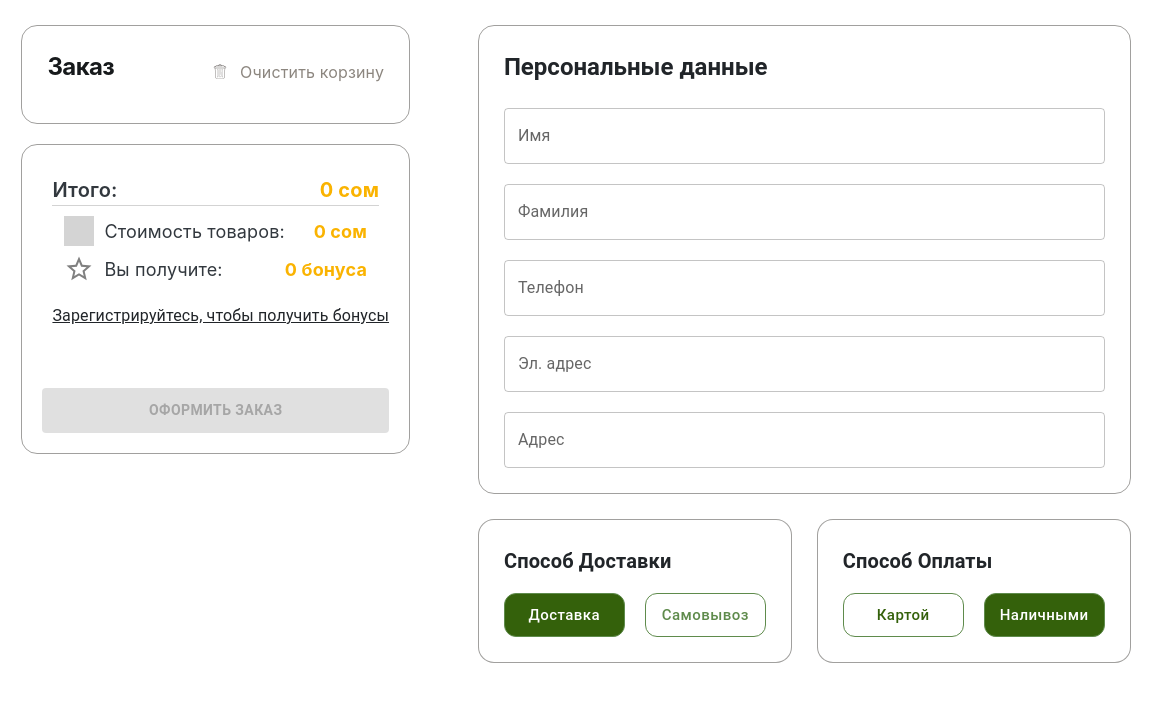
Test case: OrderForm component › validates phone number format
This screenshot has width=1152, height=720.
Type "123" into the field labelled "Телефон".
click(804, 288); type("123")  # box [504, 260, 1105, 316]
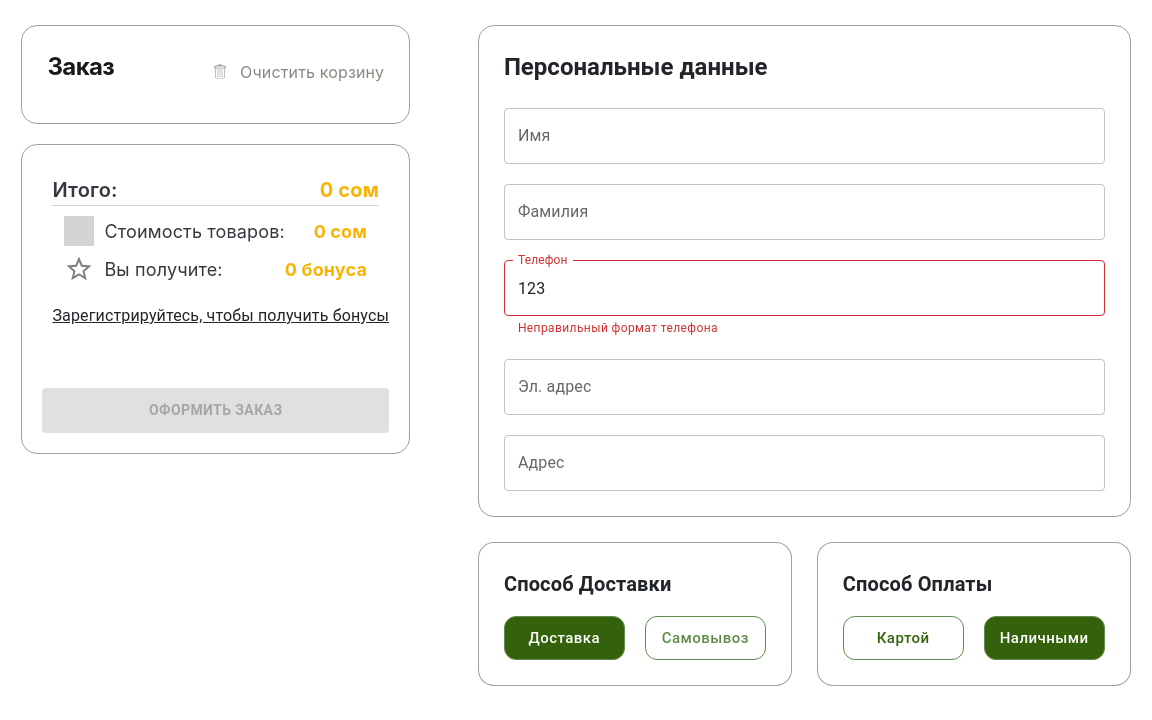
Expected: the text "Неправильный формат телефона" is shown, [518, 321, 718, 335]
Replace the text in the field labelled "Телефон" with "+996555123456" at (804, 288), box [504, 260, 1105, 316]
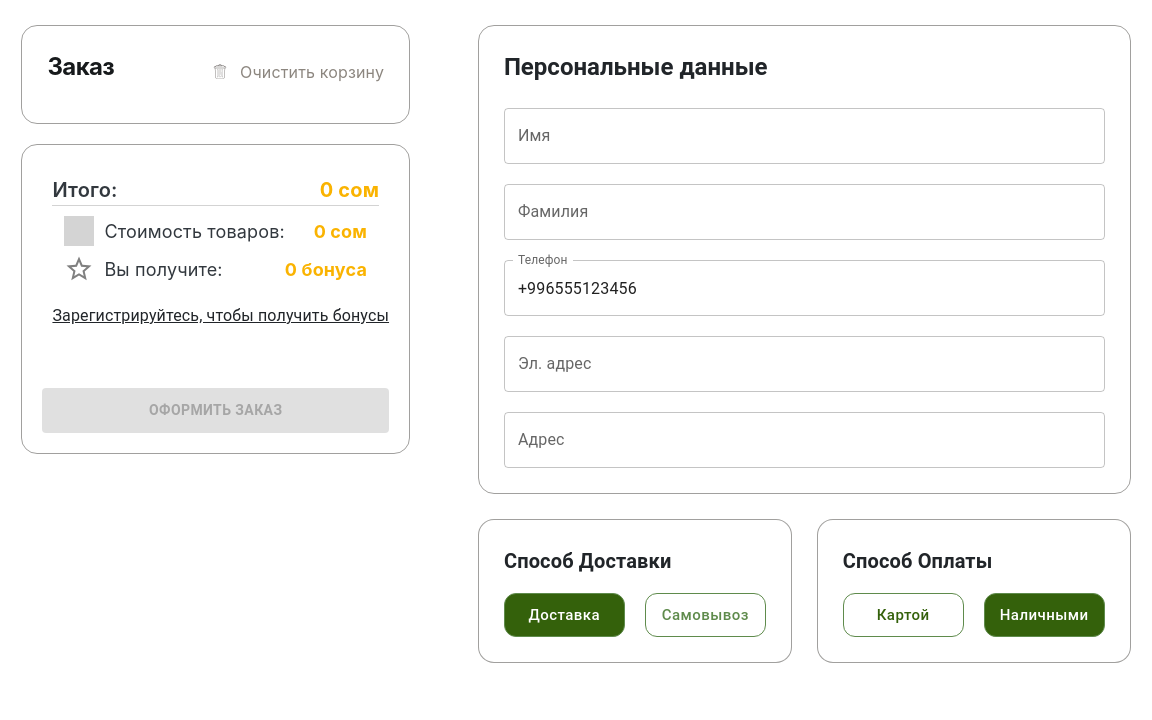
Expected: the text "Неправильный формат телефона" is gone
